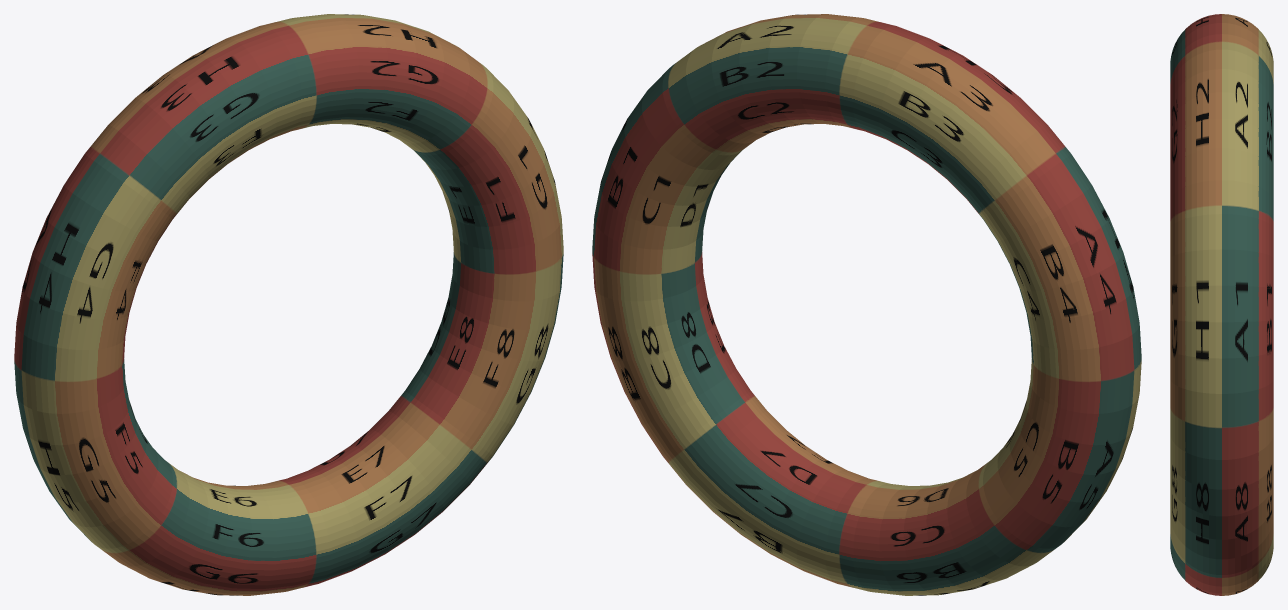
Rendered from texture_torus_R21_r12.glb.
3 views of the same model, side by side, from view 1: azimuth 30°, elevation 25°; view 2: azimuth 150°, elevation 25°; view 3: azimuth 270°, elevation 25° (orthographic). The views are drawn at different scales.
Parts seen in each view (by area): view 1: world; view 2: world; view 3: world.
Boxes of the visible parts, bbox=[...] form: world: bbox=[14, 14, 563, 595]; world: bbox=[592, 14, 1141, 595]; world: bbox=[1170, 14, 1273, 595].
Bounding box in the file's own units: 29.2 × 29.14 × 5.19.
Materials: 1 (1 with a texture image).
